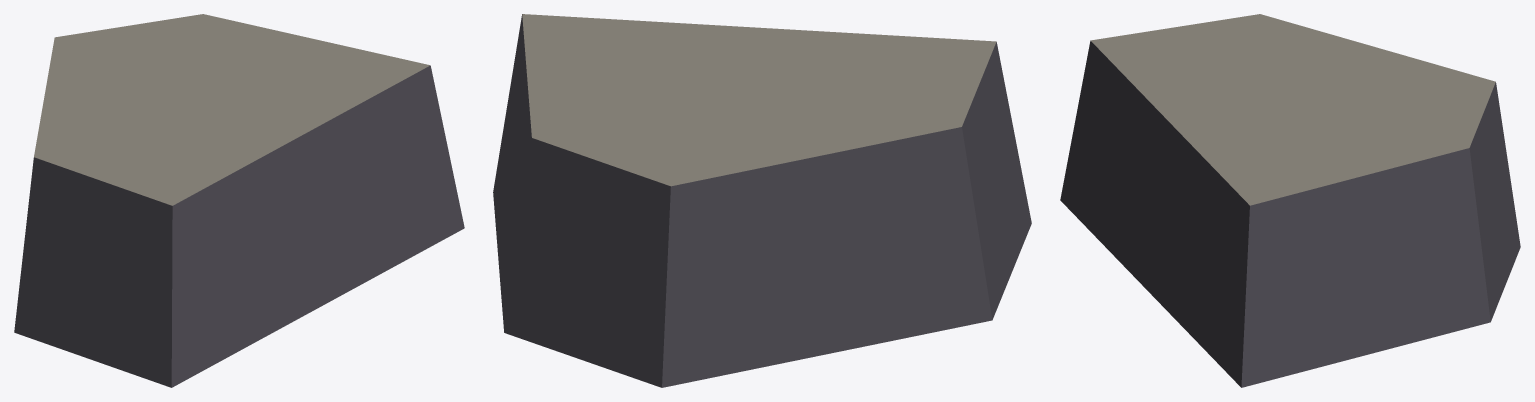
File: TB_Env_RockE.FBX
The picture shows the model from 3 angles, left to right: view 1: azimuth 30°, elevation 25°; view 2: azimuth 150°, elevation 25°; view 3: azimuth 270°, elevation 25°; orthographic projection. The views are drawn at different scales.
Parts seen in each view (by area): view 1: TB_Env_RockE; view 2: TB_Env_RockE; view 3: TB_Env_RockE.
Part boxes in pixels (x1,y1,x2,y2): TB_Env_RockE: [14, 14, 464, 387]; TB_Env_RockE: [493, 14, 1031, 387]; TB_Env_RockE: [1060, 14, 1520, 387].
Bounding box in the file's own units: 2.32 × 0.8333 × 2.07.
